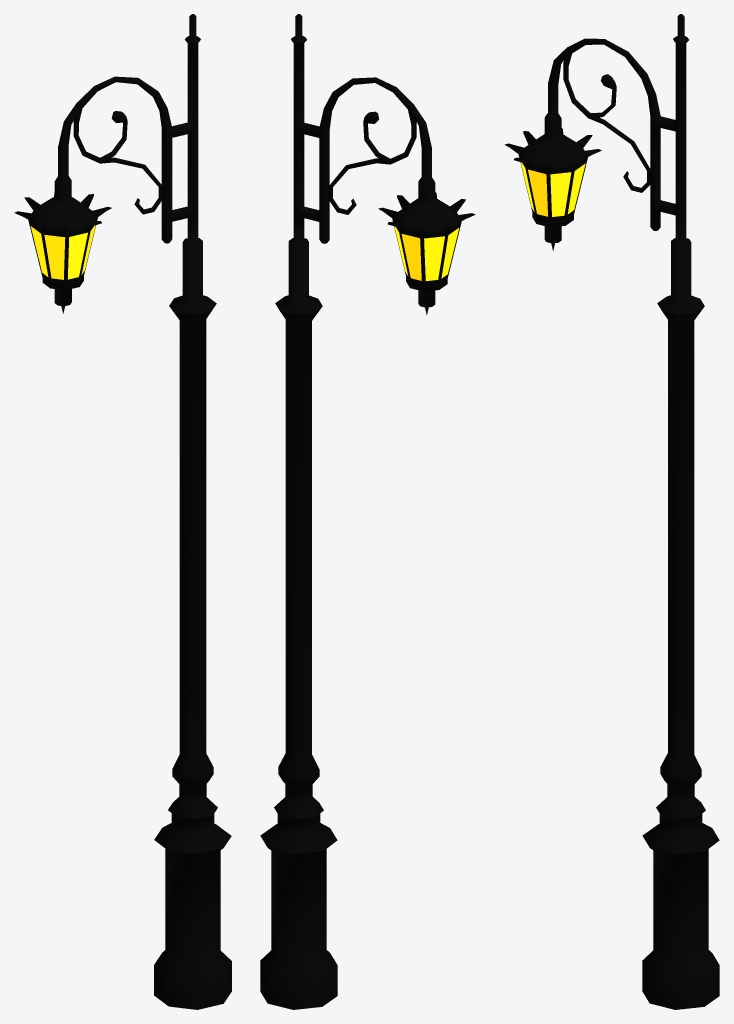
File: Lamp.fbx
3 views of the same model, side by side, from view 1: azimuth 30°, elevation 25°; view 2: azimuth 150°, elevation 25°; view 3: azimuth 330°, elevation 25° (orthographic).
Visible parts, largest first — view 1: LampPost_LPoly__0; view 2: LampPost_LPoly__0; view 3: LampPost_LPoly__0.
Part boxes in pixels (bbox=[...]): LampPost_LPoly__0: bbox=[14, 14, 231, 1009]; LampPost_LPoly__0: bbox=[260, 14, 475, 1009]; LampPost_LPoly__0: bbox=[504, 14, 719, 1009].
Size of the model in its own units: 590 by 2758 by 235.
